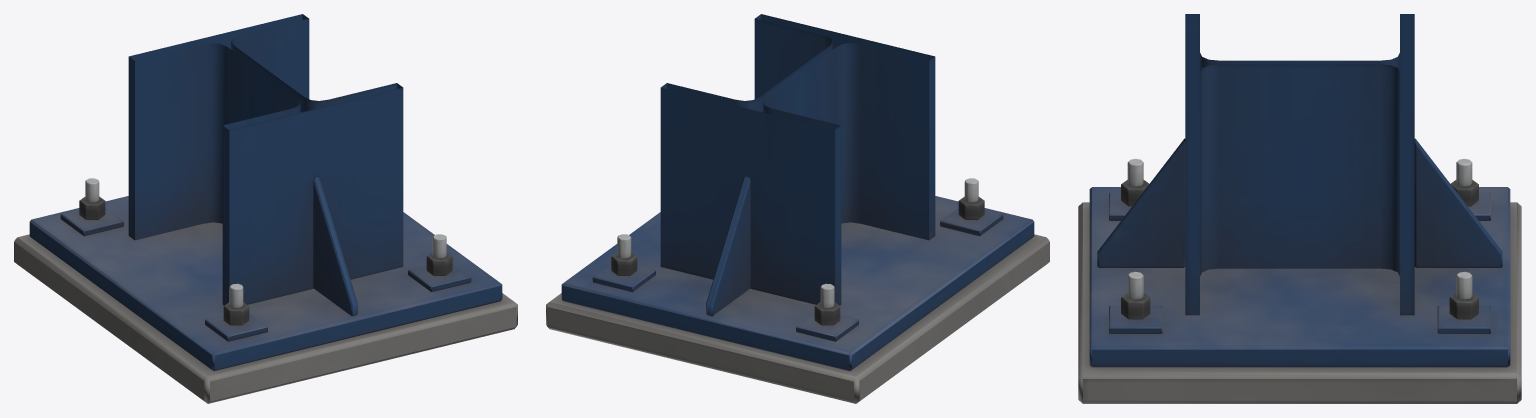
File: Column_Base.fbx
3 renders of one model, left to right at view 1: azimuth 30°, elevation 25°; view 2: azimuth 150°, elevation 25°; view 3: azimuth 270°, elevation 25°, orthographic. The views are drawn at different scales.
Visible parts, largest first — view 1: Column_Base_LOD0; view 2: Column_Base_LOD0; view 3: Column_Base_LOD0.
Part boxes in pixels (<box>): Column_Base_LOD0: <box>14,14,517,403</box>; Column_Base_LOD0: <box>546,14,1049,403</box>; Column_Base_LOD0: <box>1078,14,1521,403</box>.
Size of what is drawn, in the model's own units: 0.54 by 0.37 by 0.58.
Materials: 1 (1 with a texture image).
